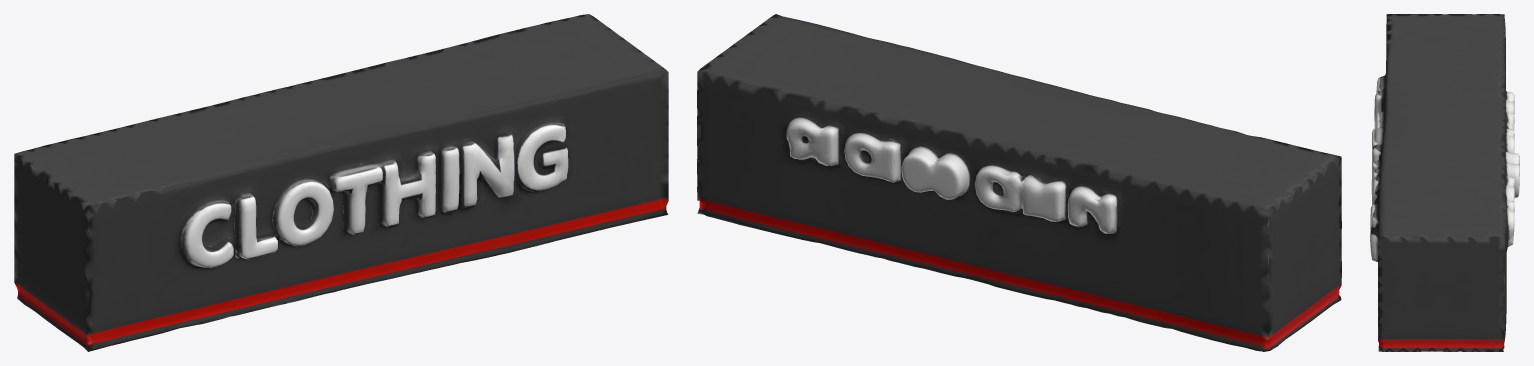
File: Meshy_AI_Clothing_Sign_0108082225_texture.fbx
3 renders of one model, left to right at view 1: azimuth 30°, elevation 25°; view 2: azimuth 150°, elevation 25°; view 3: azimuth 270°, elevation 25°, orthographic. The views are drawn at different scales.
Visible parts, largest first — view 1: Mesh0; view 2: Mesh0; view 3: Mesh0.
Part boxes in pixels (x1,y1,x2,y2): Mesh0: [14, 14, 668, 351]; Mesh0: [697, 14, 1341, 351]; Mesh0: [1370, 14, 1519, 351].
Bounding box in the file's own units: 191 × 46.03 × 54.2.
1 material, 1 textured.
